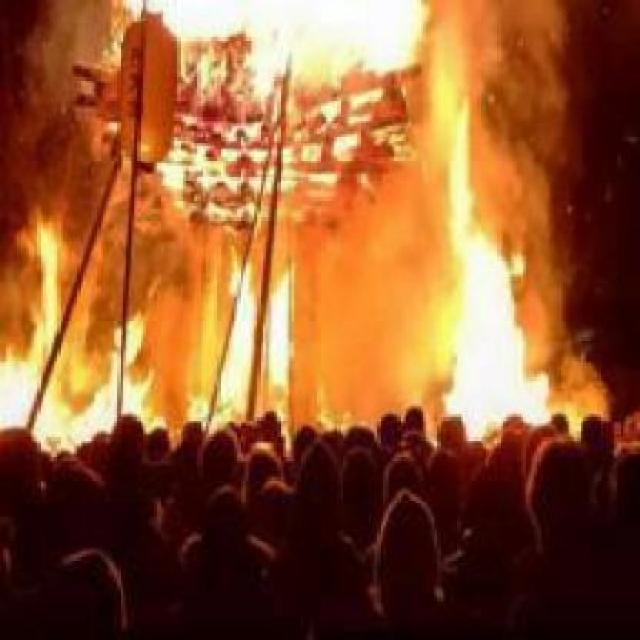Fire: (442, 142, 555, 424), (127, 0, 426, 69), (0, 231, 64, 434), (63, 321, 156, 439), (203, 250, 253, 412), (268, 264, 296, 395)
